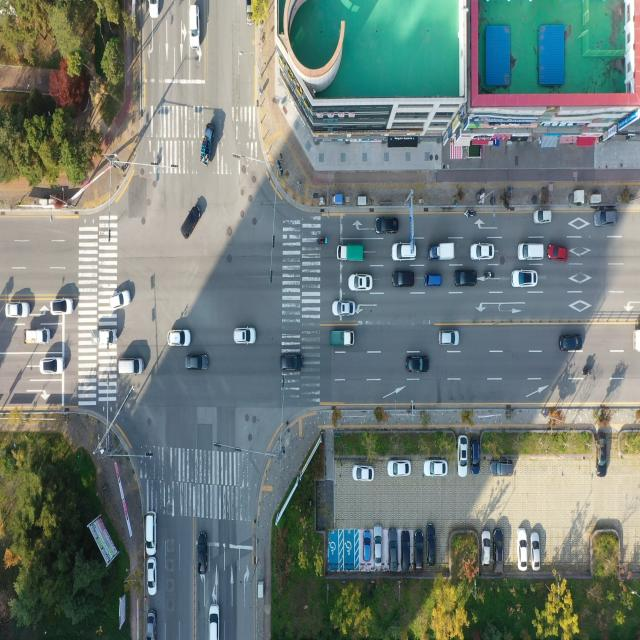car: (181, 205, 202, 241), (194, 534, 206, 579), (188, 5, 200, 49), (116, 357, 142, 376), (40, 356, 65, 375), (494, 529, 505, 572), (426, 522, 437, 565), (516, 242, 542, 260), (388, 530, 399, 572), (512, 271, 537, 289), (146, 512, 156, 556), (392, 244, 416, 262), (52, 298, 76, 316), (5, 303, 30, 320), (516, 532, 526, 574), (169, 331, 192, 349), (185, 354, 208, 372), (560, 336, 583, 354), (491, 460, 514, 478), (458, 438, 468, 479), (388, 460, 412, 477), (280, 355, 304, 372), (401, 530, 411, 570), (416, 531, 426, 571), (110, 290, 131, 309), (234, 329, 256, 347), (408, 356, 430, 374), (472, 242, 495, 259), (424, 460, 447, 477), (595, 210, 618, 227), (530, 532, 540, 570), (470, 438, 480, 475), (596, 432, 606, 469), (334, 302, 357, 318), (353, 465, 374, 482), (350, 276, 372, 292), (378, 218, 400, 234), (455, 272, 477, 288), (375, 529, 384, 568), (210, 605, 220, 640), (393, 273, 414, 289), (484, 533, 493, 569), (440, 332, 460, 348), (550, 244, 570, 260), (362, 530, 372, 562), (148, 557, 156, 595), (146, 612, 156, 640), (534, 210, 552, 224), (148, 0, 160, 20), (424, 276, 442, 288), (246, 0, 253, 23)
small_truck: (429, 242, 456, 262), (338, 244, 365, 264), (200, 124, 214, 162), (330, 331, 356, 349), (92, 328, 115, 347), (25, 328, 50, 345)
